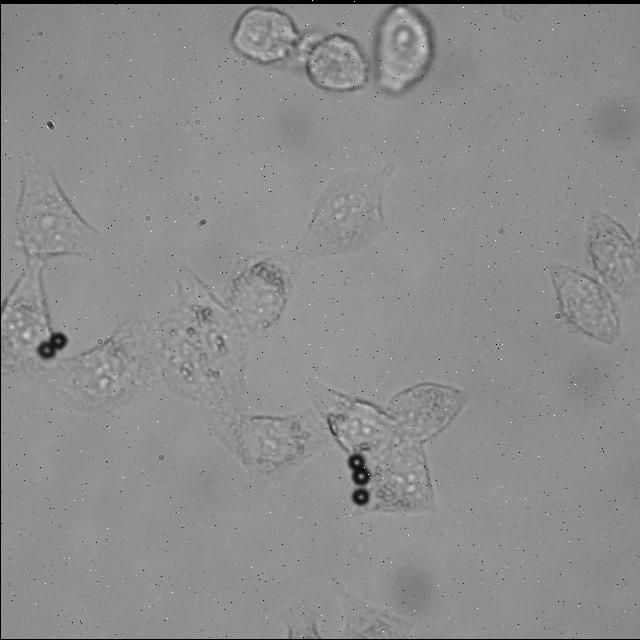microbeads: (36, 339, 54, 363), (350, 486, 370, 504), (347, 452, 367, 468), (351, 466, 369, 482), (50, 330, 66, 348)
